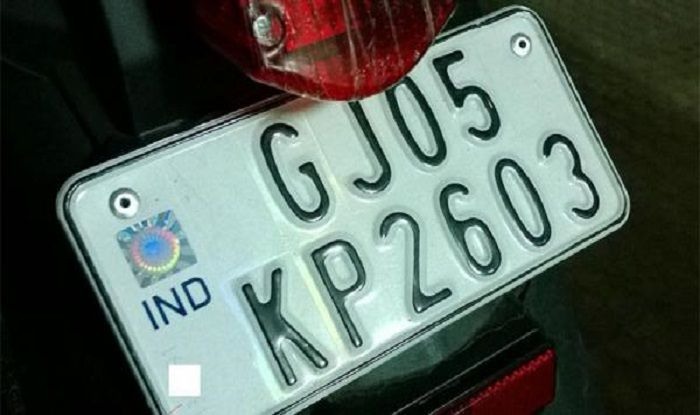doublelinenumberplate: (40, 12, 621, 414)
